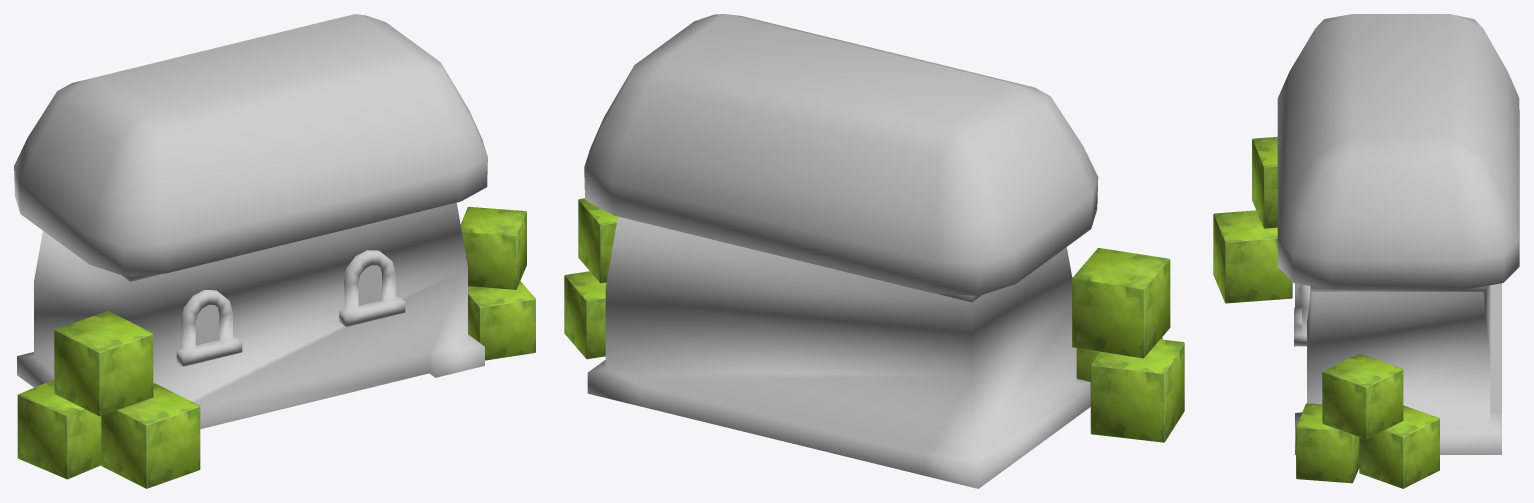
The picture shows the model from 3 angles, left to right: view 1: azimuth 30°, elevation 25°; view 2: azimuth 150°, elevation 25°; view 3: azimuth 270°, elevation 25°; orthographic projection. The views are drawn at different scales.
Visible parts, largest first — view 1: Object004, Box003; view 2: Object004, Box003; view 3: Object004, Box003.
Part boxes in pixels (left/top/right/bottom): Object004: left=14, top=14, right=487, bottom=428; Box003: left=17, top=206, right=535, bottom=488; Object004: left=584, top=14, right=1098, bottom=488; Box003: left=564, top=198, right=1184, bottom=442; Object004: left=1277, top=14, right=1519, bottom=454; Box003: left=1213, top=137, right=1439, bottom=488.
Bounding box in the file's own units: 640 × 356 × 335.
